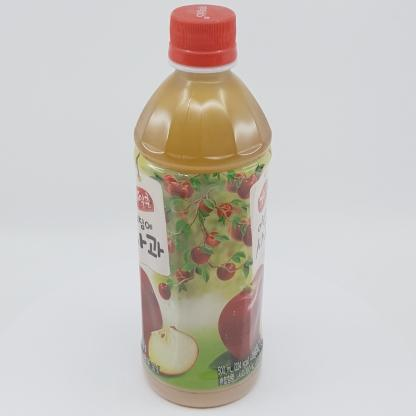--------500ML: (134, 4, 272, 407)
